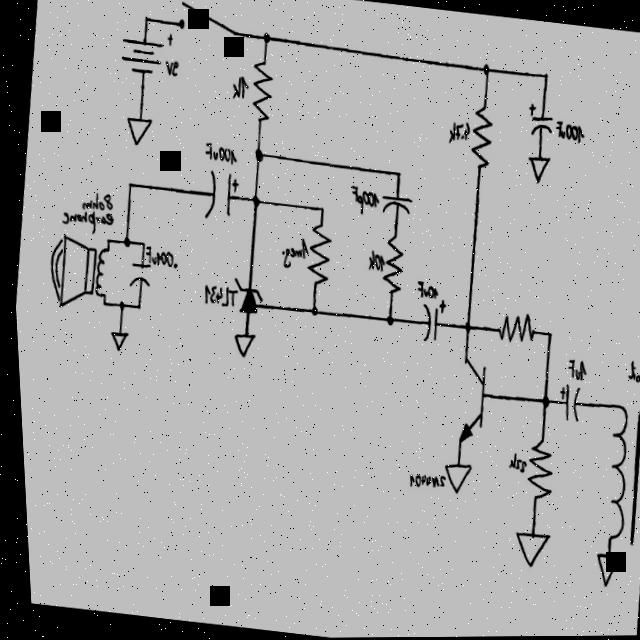capacitor: (201, 169, 237, 223), (416, 299, 443, 345), (552, 381, 578, 424), (524, 103, 553, 138), (377, 192, 411, 215), (125, 262, 149, 290)
ground: (506, 529, 545, 570), (588, 552, 616, 591), (438, 460, 467, 495), (123, 114, 151, 147), (525, 154, 549, 185), (228, 331, 252, 359), (105, 329, 125, 352)
inductor: (596, 401, 640, 549)
junction: (534, 392, 547, 413), (251, 145, 263, 165), (480, 60, 491, 79), (260, 30, 272, 46), (306, 302, 316, 320), (459, 318, 469, 335), (249, 192, 259, 209), (381, 313, 391, 328), (541, 328, 550, 343), (540, 69, 549, 83), (120, 235, 128, 247), (142, 14, 150, 26), (115, 300, 122, 311), (393, 170, 400, 180), (317, 204, 323, 214), (125, 180, 131, 189), (138, 240, 143, 248), (133, 303, 138, 310)
resistor: (520, 436, 550, 502), (302, 221, 330, 289), (248, 56, 274, 124), (468, 103, 493, 172), (379, 231, 403, 299), (493, 309, 533, 346)
source: (118, 35, 163, 78)
switch: (177, 0, 238, 36)
text: (58, 207, 112, 235), (346, 184, 379, 217), (278, 234, 307, 271), (199, 282, 235, 309), (141, 245, 176, 270), (202, 141, 237, 166), (552, 119, 585, 145), (403, 470, 441, 492), (79, 188, 112, 213), (445, 118, 471, 148), (562, 358, 584, 383), (412, 281, 438, 302), (229, 74, 249, 101), (363, 250, 383, 274), (622, 361, 640, 387), (503, 453, 523, 475), (163, 59, 179, 78)
thyristor: (227, 276, 261, 317)
transistor: (450, 354, 484, 447)
